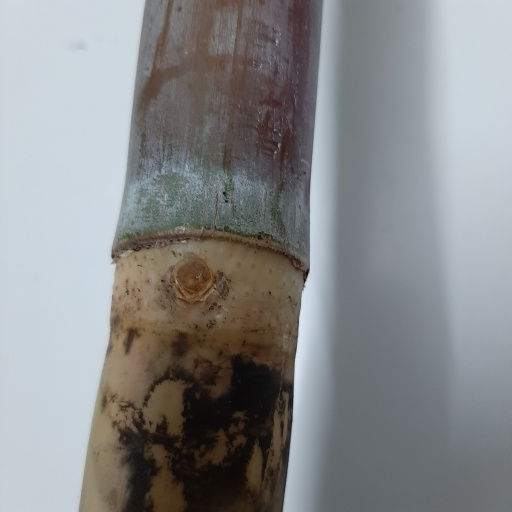Bud: (172, 258, 215, 304)
